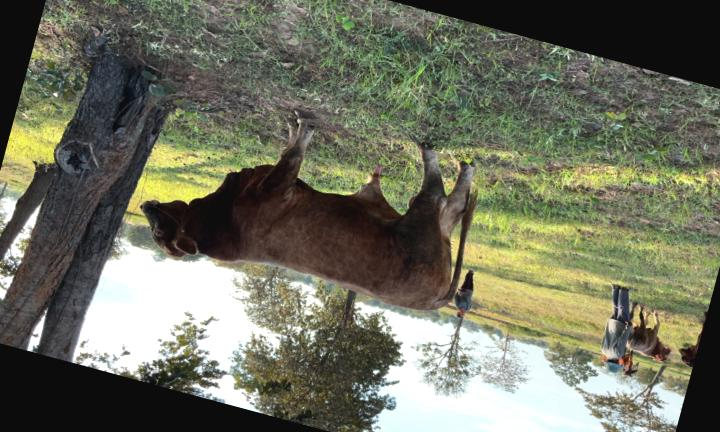Charolais: (139, 111, 476, 310), (140, 111, 476, 310)
